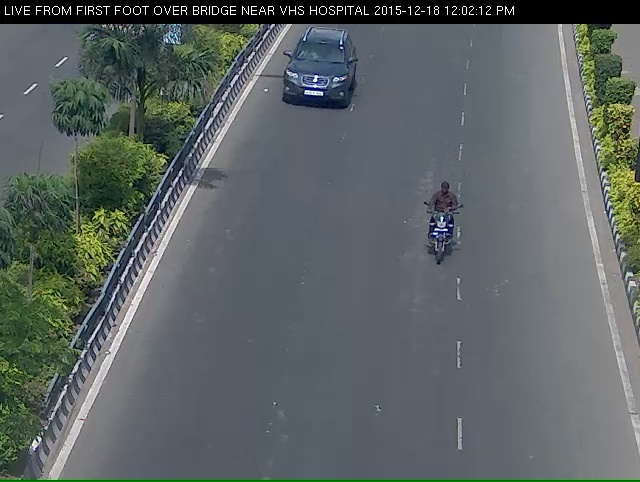Car: (272, 37, 360, 118)
Person: (414, 190, 467, 282)
